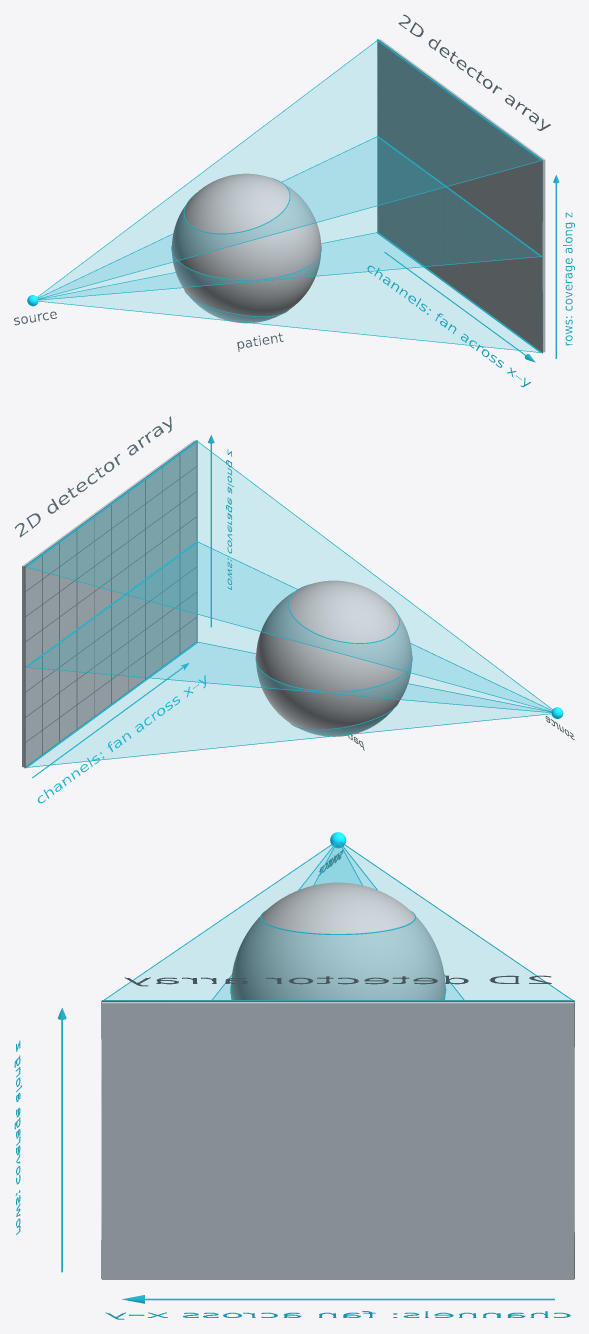
File: cone-beam-planes.glb
The picture shows the model from 3 angles, top to bottom: view 1: azimuth 30°, elevation 25°; view 2: azimuth 150°, elevation 25°; view 3: azimuth 270°, elevation 25°; orthographic projection. The views are drawn at different scales.
Parts seen in each view (by area): view 1: Horizontal fan plane 3, Detector panel, Horizontal fan plane 2, Horizontal fan plane 1, Patient sphere, Detector grid, 8 rows and 10 channels, Straight fan-plane boundary rays, Highlighted detector rows, Label detector, Detector frame, Label channels axis, Label rows axis; view 2: Horizontal fan plane 3, Detector panel, Horizontal fan plane 2, Horizontal fan plane 1, Patient sphere, Detector grid, 8 rows and 10 channels, Straight fan-plane boundary rays, Highlighted detector rows, Detector frame, Label detector, Label channels axis; view 3: Detector panel, Horizontal fan plane 3, Patient sphere, Horizontal fan plane 2, Detector frame, Channels axis, Label detector, Label channels axis, Straight fan-plane boundary rays.
Part boxes in pixels (box(x1,y1,x2,y2)): Horizontal fan plane 3: box(38, 41, 539, 297); Detector panel: box(378, 39, 545, 352); Horizontal fan plane 2: box(41, 138, 538, 298); Horizontal fan plane 1: box(42, 233, 538, 351); Patient sphere: box(171, 173, 321, 323); Detector grid, 8 rows and 10 channels: box(377, 41, 542, 349); Straight fan-plane boundary rays: box(37, 40, 542, 352); Highlighted detector rows: box(377, 39, 541, 352); Label detector: box(398, 14, 550, 130); Detector frame: box(377, 39, 542, 353); Label channels axis: box(367, 265, 530, 387); Label rows axis: box(563, 212, 574, 345); Horizontal fan plane 3: box(28, 442, 551, 710); Detector panel: box(22, 440, 196, 767); Horizontal fan plane 2: box(28, 543, 548, 711); Horizontal fan plane 1: box(28, 643, 547, 766); Patient sphere: box(256, 580, 412, 736); Detector grid, 8 rows and 10 channels: box(25, 442, 197, 767); Straight fan-plane boundary rays: box(25, 441, 552, 767); Highlighted detector rows: box(26, 440, 197, 767); Detector frame: box(24, 440, 197, 768); Label detector: box(14, 416, 171, 537); Label channels axis: box(37, 675, 205, 803); Detector panel: box(102, 1002, 574, 1279); Horizontal fan plane 3: box(106, 842, 570, 999); Patient sphere: box(230, 882, 445, 999); Horizontal fan plane 2: box(214, 844, 462, 999); Detector frame: box(101, 1000, 574, 1278); Channels axis: box(122, 1295, 554, 1303); Label detector: box(124, 975, 551, 986); Label channels axis: box(105, 1311, 570, 1319); Straight fan-plane boundary rays: box(104, 841, 572, 999).
Size of the model in its own units: 7.16 by 3.78 by 5.22.
